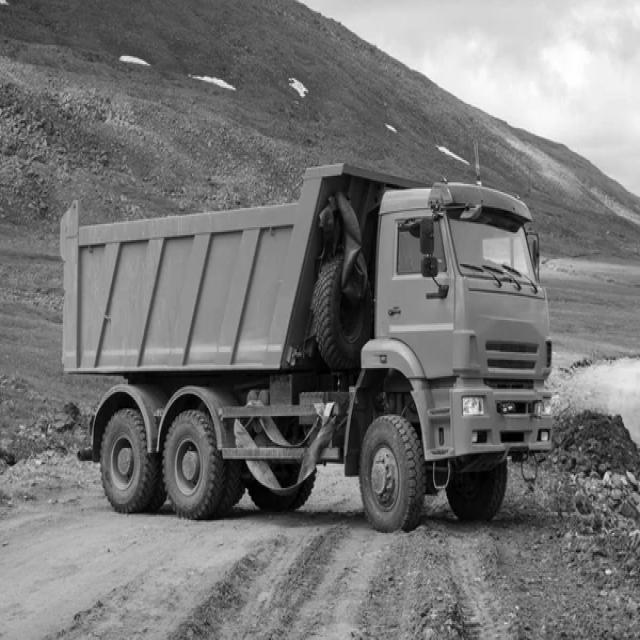Truck: (59, 163, 554, 532)
